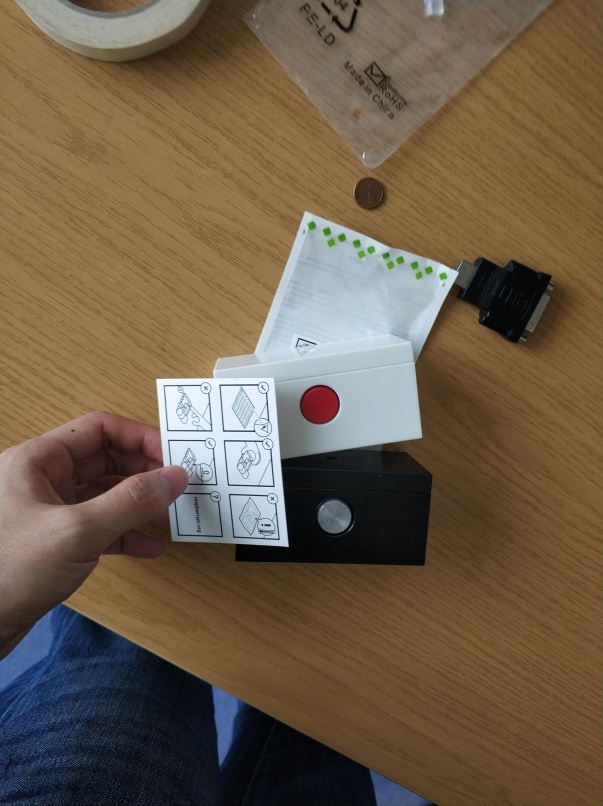black+black+silver: (230, 452, 439, 569)
white+white+red: (209, 331, 428, 459)
